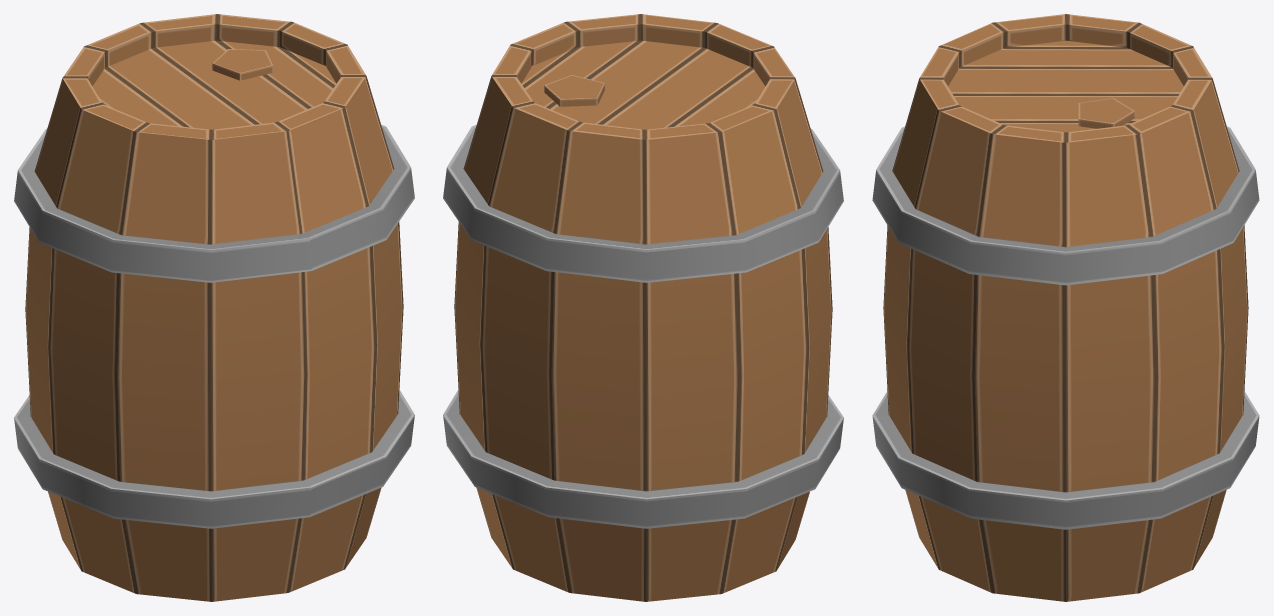
Rendered from barril.fbx.
3 renders of one model, left to right at view 1: azimuth 30°, elevation 25°; view 2: azimuth 150°, elevation 25°; view 3: azimuth 270°, elevation 25°, orthographic.
Parts seen in each view (by area): view 1: barril; view 2: barril; view 3: barril.
Part boxes in pixels (left/top/right/bottom): barril: left=14, top=14, right=414, bottom=601; barril: left=443, top=14, right=843, bottom=601; barril: left=872, top=14, right=1259, bottom=601.
Size of the model in its own units: 71.49 by 90 by 68.78.
